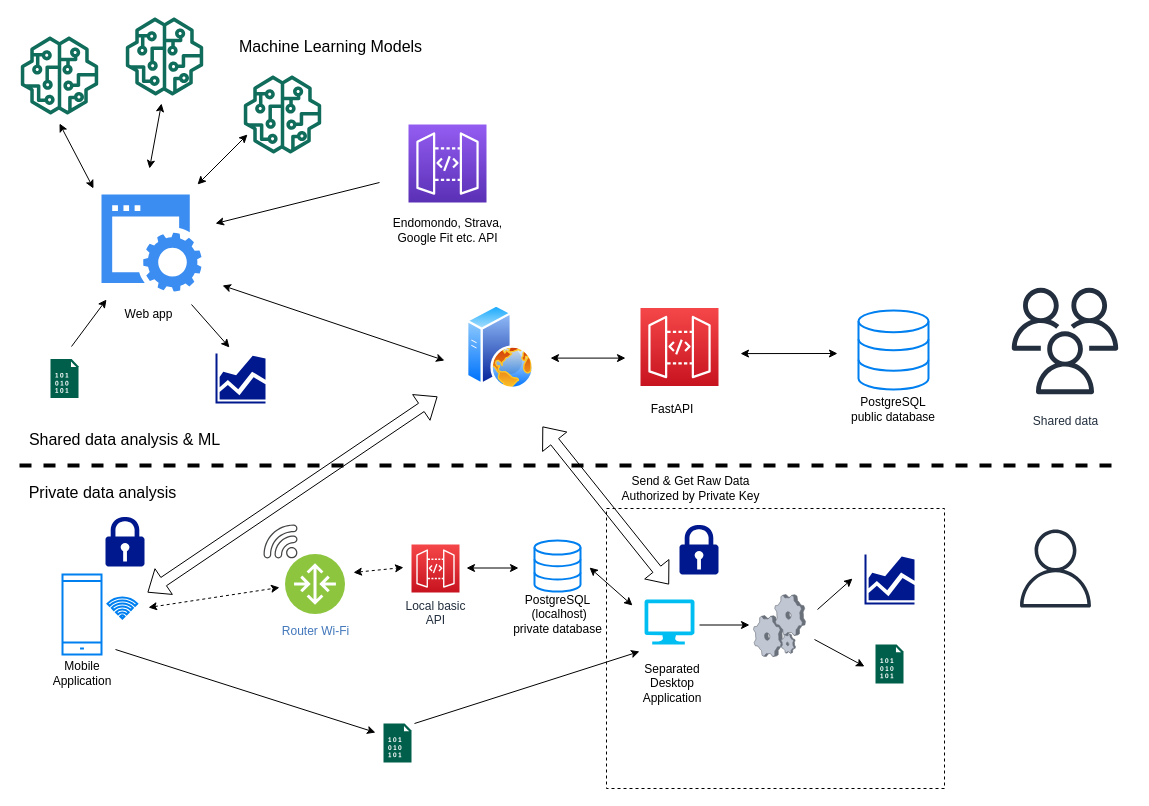
The diagram is 1149 pixels wide and 806 high, and some of its shapes have lost their labels. Each missing label, with the centre of its shape:
nginx proxy server: [500,346]
User private data: [1055,568]
